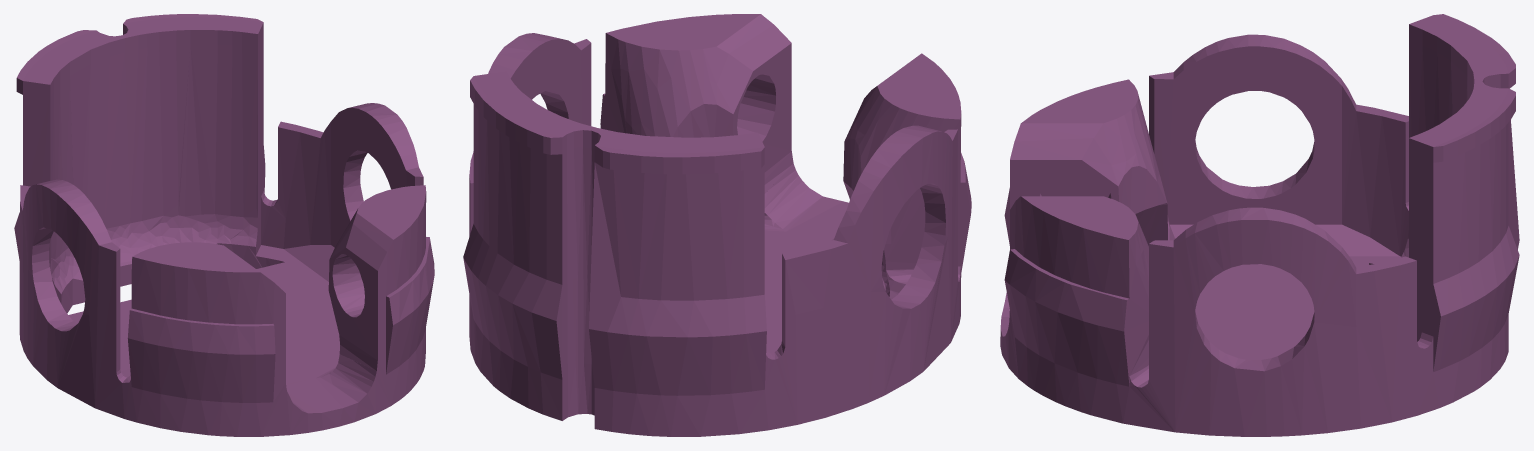
File: i02_head_right_eye_vertical_visual_0.obj
3 views of the same model, side by side, from view 1: azimuth 30°, elevation 25°; view 2: azimuth 150°, elevation 25°; view 3: azimuth 270°, elevation 25° (orthographic). The views are drawn at different scales.
Parts seen in each view (by area): view 1: i02.head.eyeAdaptor.right_visual.001; view 2: i02.head.eyeAdaptor.right_visual.001; view 3: i02.head.eyeAdaptor.right_visual.001.
Boxes of the visible parts, box(x1,y1,x2,y2) form: i02.head.eyeAdaptor.right_visual.001: box(14, 14, 434, 436); i02.head.eyeAdaptor.right_visual.001: box(463, 14, 971, 436); i02.head.eyeAdaptor.right_visual.001: box(1000, 14, 1519, 436).
Bounding box in the file's own units: 0.1896 × 0.1261 × 0.225.
